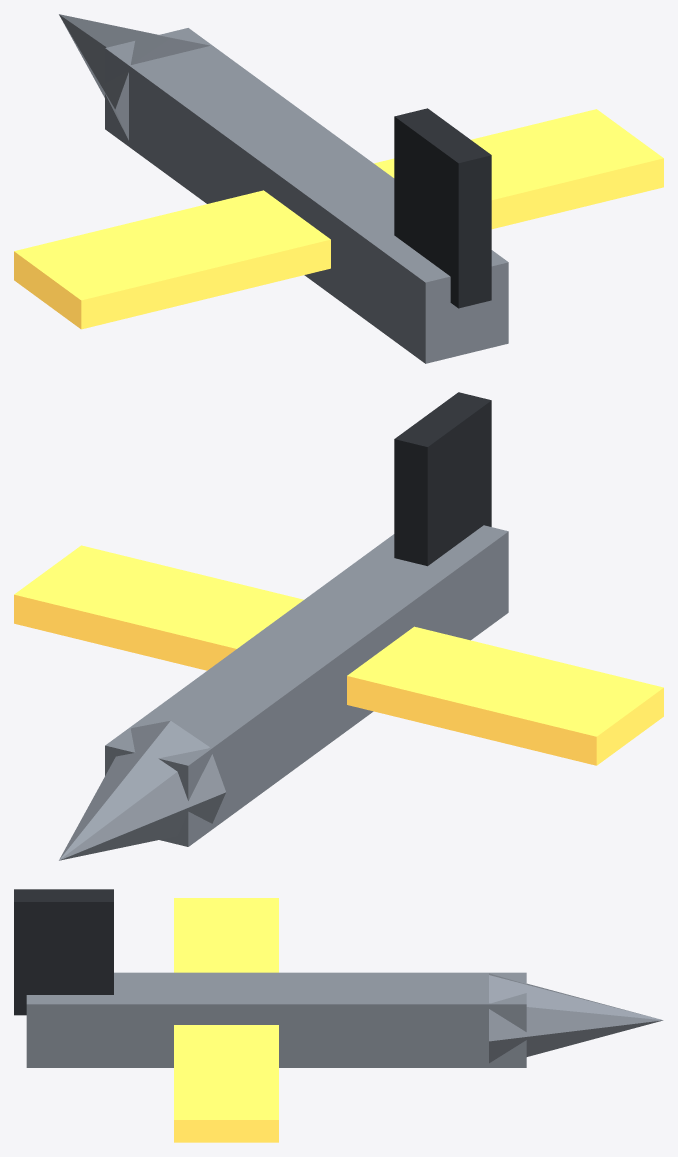
Rendered from plektor_strike_interceptor.glb.
3 views of the same model, one above another, from view 1: azimuth 30°, elevation 25°; view 2: azimuth 150°, elevation 25°; view 3: azimuth 270°, elevation 25° (orthographic). The views are drawn at different scales.
Visible parts, largest first — view 1: hull; view 2: hull; view 3: hull.
Boxes of the visible parts, <box> form: hull: <box>14,14,663,363</box>; hull: <box>14,392,663,860</box>; hull: <box>14,889,663,1142</box>.
Bounding box in the file's own units: 10.92 × 3.9 × 13.52.
